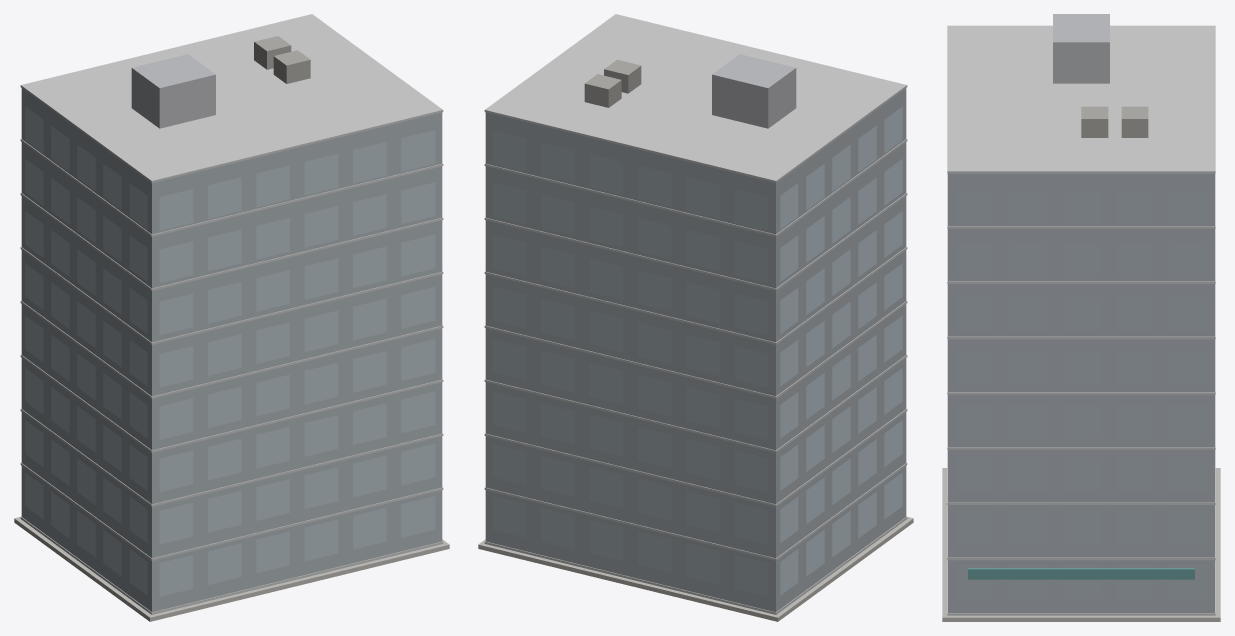
The model's file is 13_office_commerce-01.glb.
The picture shows the model from 3 angles, left to right: view 1: azimuth 30°, elevation 25°; view 2: azimuth 150°, elevation 25°; view 3: azimuth 270°, elevation 25°; orthographic projection. The views are drawn at different scales.
Size of the model in its own units: 18.6 by 28.38 by 14.6.
